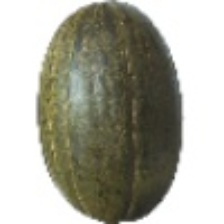honeydew: (29, 0, 220, 190)
